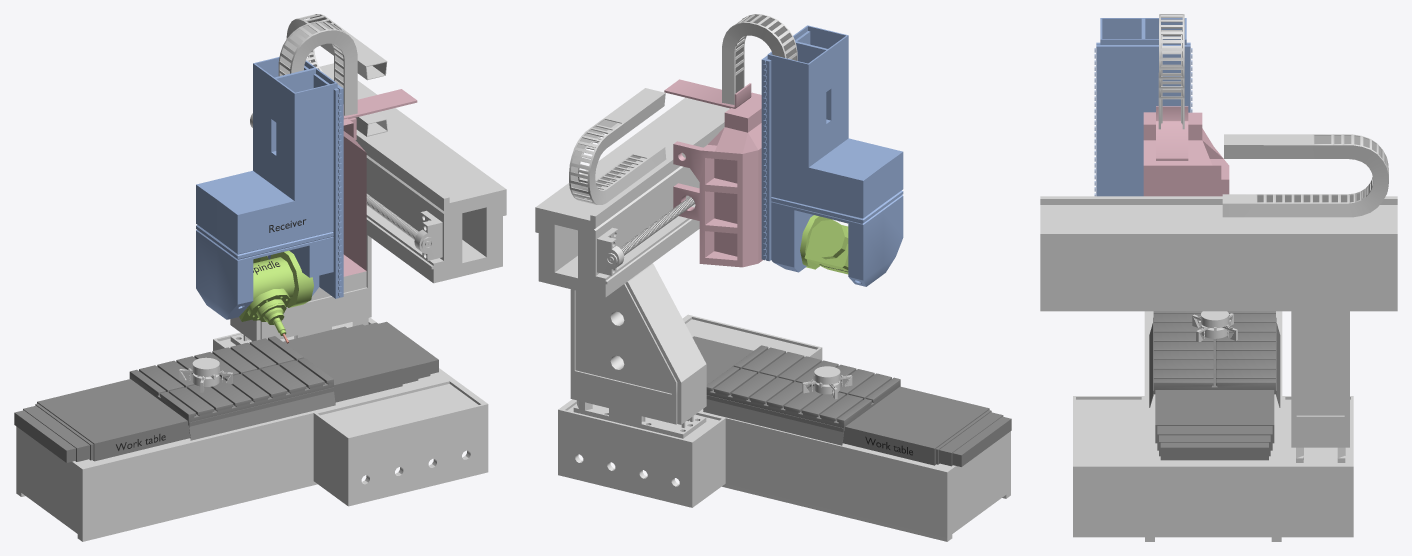
Rendered from machine_tool.glb.
3 renders of one model, left to right at view 1: azimuth 30°, elevation 25°; view 2: azimuth 150°, elevation 25°; view 3: azimuth 270°, elevation 25°, orthographic. The views are drawn at different scales.
Visible parts, largest first — view 1: Cube, Cube.033, Cube.004, Cube.003, Cube.002, Cube.006, Cube.001, Cube.032, Cube.025, Cube.014, Cube.026, Cube.023 (+6 smaller); view 2: Cube, Cube.033, Cube.004, Cube.001, Cube.006, Cube.003, Cube.002, Cube.014, Cube.032, Cube.024, Cube.009, Cube.026 (+3 smaller); view 3: Cube.004, Cube, Cube.033, Cube.003, Cube.014, Cube.001, Cube.006, Cube.002, Cube.032, Cube.021, Cube.023, Cube.022.
Boxes of the visible parts, bbox=[...] form: Cube: bbox=[16, 317, 488, 541]; Cube.033: bbox=[196, 57, 343, 319]; Cube.004: bbox=[319, 63, 506, 283]; Cube.003: bbox=[129, 336, 335, 440]; Cube.002: bbox=[37, 326, 402, 461]; Cube.006: bbox=[343, 89, 417, 276]; Cube.001: bbox=[230, 235, 371, 341]; Cube.032: bbox=[278, 21, 357, 115]; Cube.025: bbox=[247, 250, 313, 307]; Cube.014: bbox=[286, 14, 387, 136]; Cube.026: bbox=[14, 410, 75, 462]; Cube.023: bbox=[347, 324, 418, 384]; Cube: bbox=[558, 314, 1010, 541]; Cube.033: bbox=[761, 25, 903, 286]; Cube.004: bbox=[535, 97, 729, 297]; Cube.001: bbox=[570, 263, 706, 424]; Cube.006: bbox=[664, 79, 762, 267]; Cube.003: bbox=[703, 345, 900, 445]; Cube.002: bbox=[692, 336, 989, 465]; Cube.014: bbox=[569, 88, 666, 204]; Cube.032: bbox=[722, 14, 797, 104]; Cube.024: bbox=[804, 219, 848, 274]; Cube.009: bbox=[573, 400, 706, 438]; Cube.026: bbox=[952, 416, 1011, 466]; Cube.004: bbox=[1040, 196, 1397, 311]; Cube: bbox=[1073, 311, 1353, 541]; Cube.033: bbox=[1094, 18, 1192, 196]; Cube.003: bbox=[1149, 311, 1280, 407]; Cube.014: bbox=[1222, 134, 1388, 217]; Cube.001: bbox=[1291, 311, 1349, 447]; Cube.006: bbox=[1143, 106, 1229, 196]; Cube.002: bbox=[1155, 390, 1274, 443]; Cube.032: bbox=[1158, 14, 1184, 129]; Cube.021: bbox=[1160, 442, 1268, 460]; Cube.023: bbox=[1157, 426, 1272, 450]; Cube.022: bbox=[1159, 435, 1270, 456].
Bounding box in the file's own units: 3.33 × 3.71 × 2.6.
